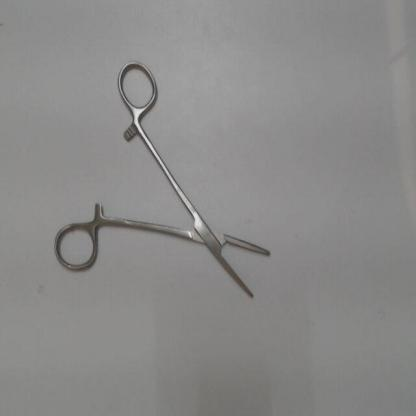Mayo Needle Holder: (49, 54, 278, 309)
